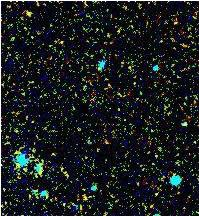star: (11, 0, 41, 27)
